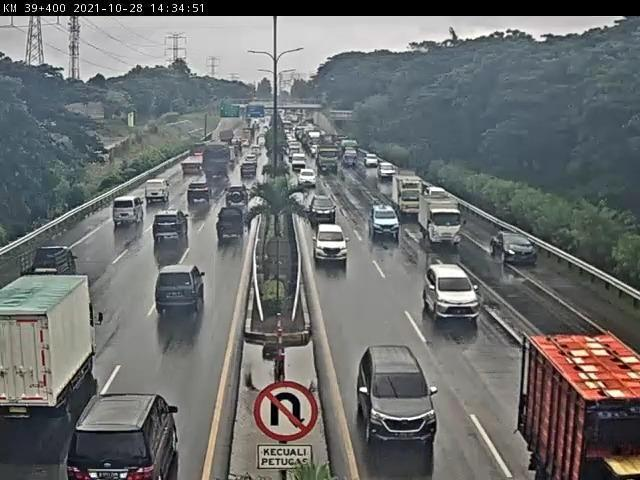car: (87, 388, 176, 480), (370, 353, 436, 445), (417, 259, 489, 329), (152, 262, 210, 322), (485, 225, 546, 273), (312, 219, 351, 273), (32, 243, 79, 284), (152, 209, 191, 250), (370, 202, 405, 245), (107, 189, 144, 229), (216, 203, 247, 245), (142, 173, 173, 207), (311, 195, 341, 224), (187, 181, 213, 207), (299, 169, 319, 189), (365, 148, 381, 171), (377, 163, 397, 179), (244, 162, 259, 181), (291, 152, 308, 168)
truck: (503, 325, 640, 480), (3, 268, 96, 420), (419, 185, 467, 249), (391, 172, 428, 219), (205, 141, 231, 179), (318, 149, 345, 174), (187, 146, 204, 177)
